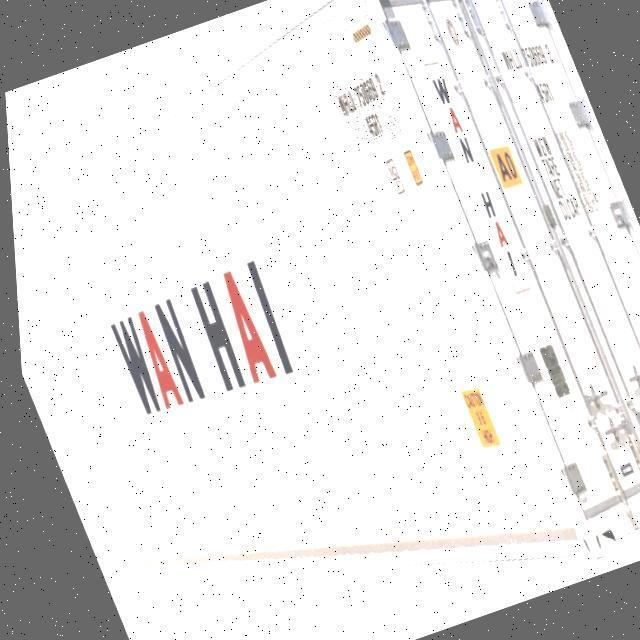container_number_h: (329, 68, 408, 151)
